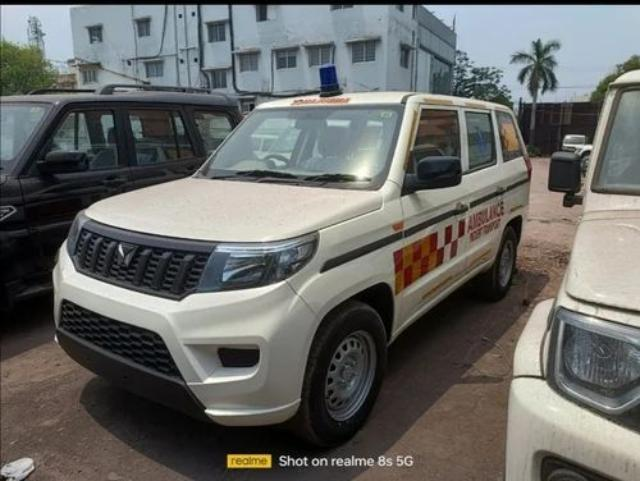ambulance: (68, 50, 531, 421)
